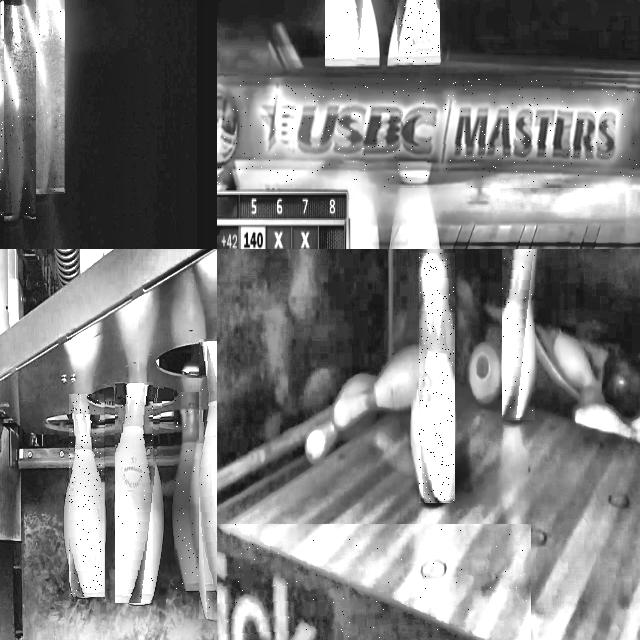bowling-pins: (420, 254, 454, 502), (115, 382, 153, 601), (27, 0, 63, 193), (69, 394, 102, 597), (502, 249, 534, 419), (199, 339, 217, 596), (175, 393, 198, 589), (397, 0, 440, 64), (326, 0, 363, 65)
sweep board: (217, 79, 640, 187), (217, 528, 460, 640)
